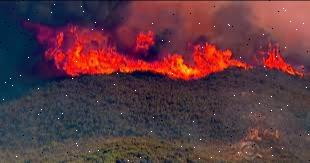fire: (32, 14, 306, 91)
